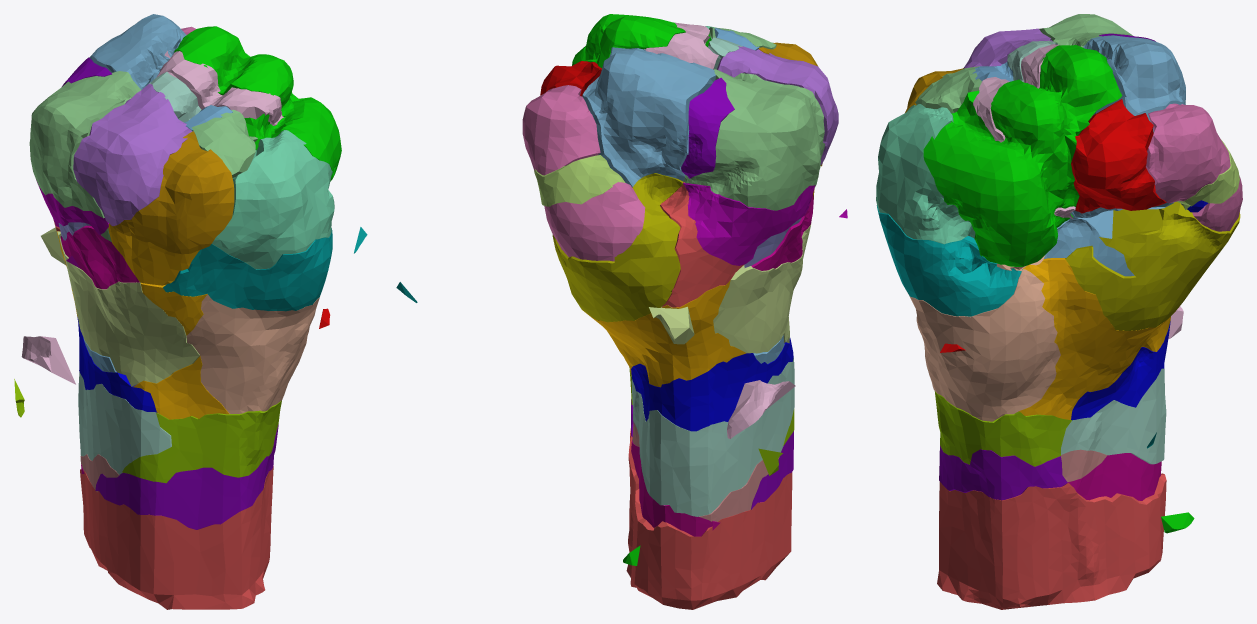
Rendered from fractured_11_45pcs.glb.
The picture shows the model from 3 angles, left to right: view 1: azimuth 30°, elevation 25°; view 2: azimuth 150°, elevation 25°; view 3: azimuth 270°, elevation 25°; orthographic projection. The views are drawn at different scales.
Visible parts, largest first — view 1: piece_1.obj, piece_22.obj, piece_7.obj, piece_24.obj, piece_5.obj, piece_8.obj, piece_17.obj, piece_3.obj, piece_13.obj, piece_14.obj, piece_16.obj, piece_4.obj (+13 smaller); view 2: piece_1.obj, piece_3.obj, piece_2.obj, piece_4.obj, piece_11.obj, piece_0.obj, piece_10.obj, piece_5.obj, piece_12.obj, piece_20.obj, piece_21.obj, piece_30.obj (+13 smaller); view 3: piece_8.obj, piece_1.obj, piece_7.obj, piece_11.obj, piece_0.obj, piece_2.obj, piece_22.obj, piece_13.obj, piece_9.obj, piece_21.obj, piece_14.obj, piece_4.obj (+14 smaller).
Part boxes in pixels (bbox=[...]): piece_1.obj: bbox=[80, 466, 273, 609]; piece_22.obj: bbox=[212, 130, 334, 269]; piece_7.obj: bbox=[186, 294, 320, 413]; piece_24.obj: bbox=[73, 83, 192, 226]; piece_5.obj: bbox=[57, 231, 199, 386]; piece_8.obj: bbox=[174, 26, 341, 181]; piece_17.obj: bbox=[111, 131, 234, 254]; piece_3.obj: bbox=[29, 71, 140, 218]; piece_13.obj: bbox=[163, 228, 332, 311]; piece_14.obj: bbox=[122, 400, 281, 483]; piece_16.obj: bbox=[95, 424, 278, 529]; piece_4.obj: bbox=[78, 371, 171, 474]; piece_1.obj: bbox=[626, 428, 792, 609]; piece_3.obj: bbox=[683, 69, 825, 210]; piece_2.obj: bbox=[582, 47, 715, 187]; piece_4.obj: bbox=[631, 357, 794, 516]; piece_11.obj: bbox=[552, 173, 683, 322]; piece_0.obj: bbox=[582, 280, 746, 387]; piece_10.obj: bbox=[631, 338, 793, 431]; piece_5.obj: bbox=[713, 223, 811, 353]; piece_12.obj: bbox=[683, 183, 815, 265]; piece_20.obj: bbox=[544, 182, 645, 261]; piece_21.obj: bbox=[522, 85, 600, 175]; piece_30.obj: bbox=[660, 182, 744, 307]; piece_8.obj: bbox=[923, 45, 1122, 266]; piece_1.obj: bbox=[937, 473, 1166, 609]; piece_7.obj: bbox=[908, 269, 1060, 421]; piece_11.obj: bbox=[1065, 202, 1240, 330]; piece_0.obj: bbox=[1019, 258, 1175, 419]; piece_2.obj: bbox=[1044, 35, 1185, 276]; piece_22.obj: bbox=[876, 104, 975, 244]; piece_13.obj: bbox=[876, 205, 1022, 316]; piece_9.obj: bbox=[1071, 99, 1166, 213]; piece_21.obj: bbox=[1146, 103, 1230, 203]; piece_14.obj: bbox=[934, 391, 1071, 466]; piece_4.obj: bbox=[1061, 368, 1166, 464].
Size of the model in its own units: 0.7335 by 1 by 0.6052.
